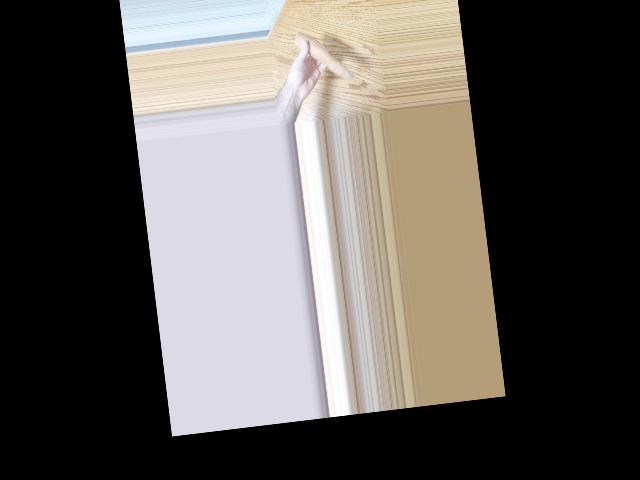sweet_potato: (293, 28, 353, 85)
